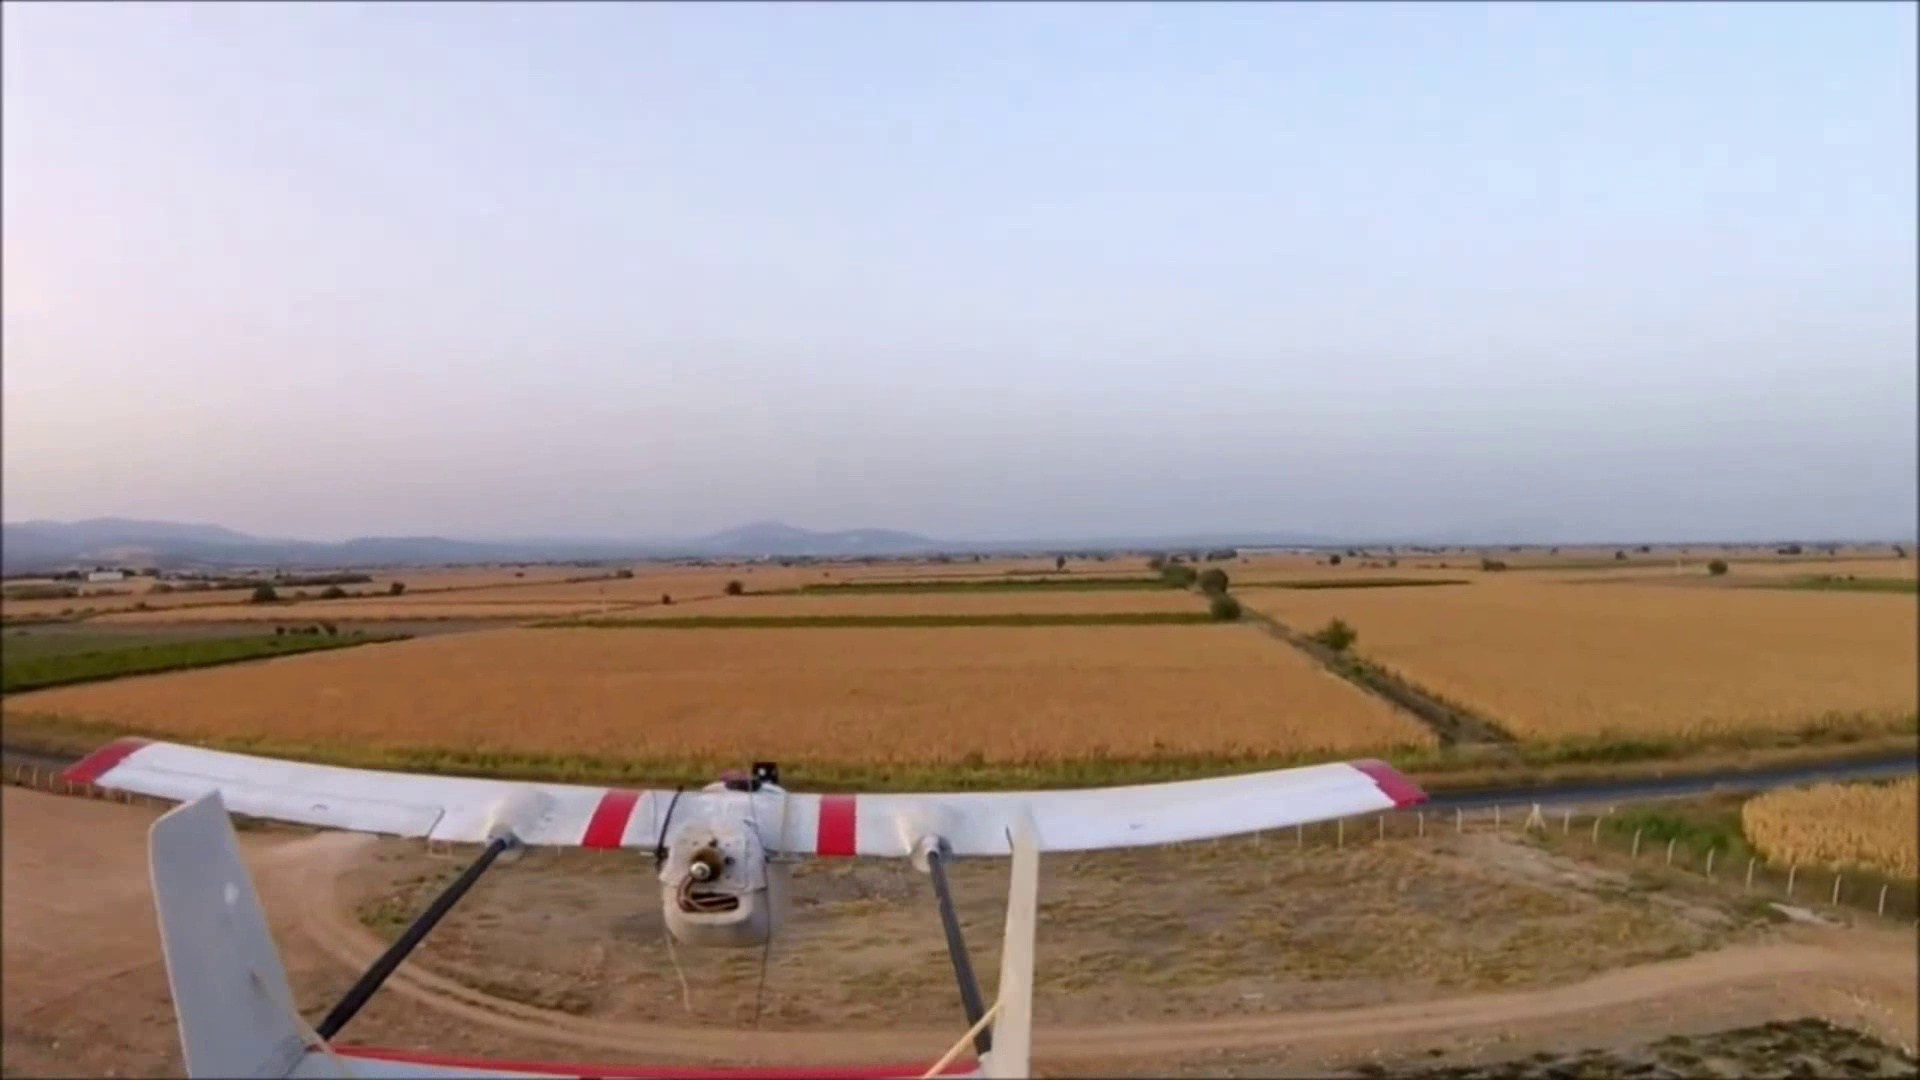airplane: (55, 748, 1432, 1073)
